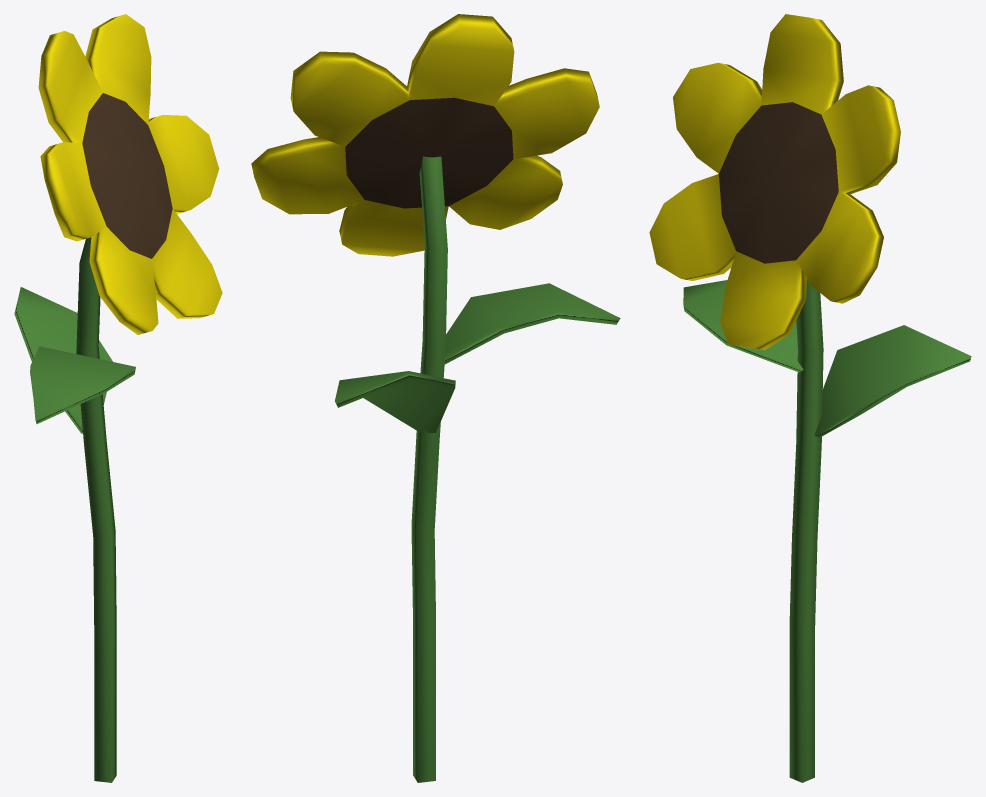
The model's file is Flower.fbx.
The picture shows the model from 3 angles, left to right: view 1: azimuth 30°, elevation 25°; view 2: azimuth 150°, elevation 25°; view 3: azimuth 270°, elevation 25°; orthographic projection. The views are drawn at different scales.
Visible parts, largest first — view 1: Flower; view 2: Flower; view 3: Flower.
Boxes of the visible parts, x1,y1,x2,y2 form: Flower: (14, 14, 222, 782); Flower: (251, 14, 620, 782); Flower: (649, 14, 971, 782).
Bounding box in the file's own units: 0.5951 × 1.6 × 0.6305.
